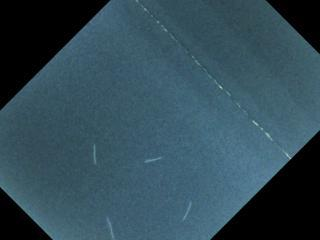crack: (136, 0, 294, 162)
scratch: (174, 197, 200, 230), (103, 213, 120, 240), (88, 141, 102, 168), (140, 153, 167, 165)
